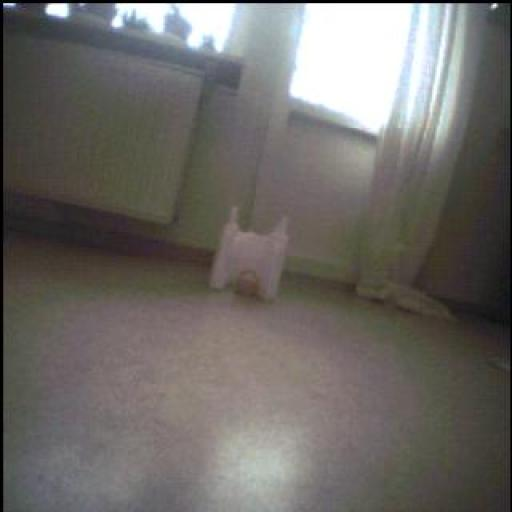Basket: (235, 269, 260, 298)
